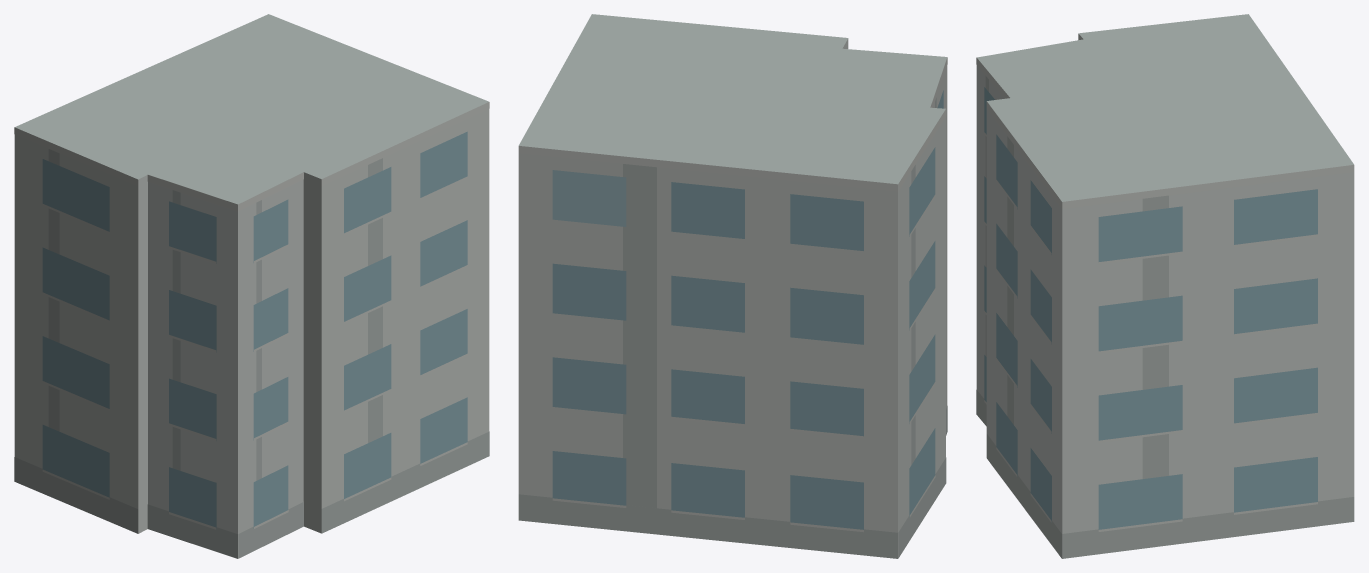
File: residential-3f9d30d5-6659-479f-912d-e86b99f7100c.glb
The picture shows the model from 3 angles, left to right: view 1: azimuth 30°, elevation 25°; view 2: azimuth 150°, elevation 25°; view 3: azimuth 270°, elevation 25°; orthographic projection. The views are drawn at different scales.
Visible parts, largest first — view 1: residential-3f9d30d5-6659-479f-912d-e86b99f7100c.tmp; view 2: residential-3f9d30d5-6659-479f-912d-e86b99f7100c.tmp; view 3: residential-3f9d30d5-6659-479f-912d-e86b99f7100c.tmp.
Boxes of the visible parts, bbox=[...] form: residential-3f9d30d5-6659-479f-912d-e86b99f7100c.tmp: bbox=[14, 14, 489, 558]; residential-3f9d30d5-6659-479f-912d-e86b99f7100c.tmp: bbox=[518, 14, 947, 558]; residential-3f9d30d5-6659-479f-912d-e86b99f7100c.tmp: bbox=[976, 14, 1354, 558].
Bounding box in the file's own units: 13.78 × 12.2 × 11.71.
